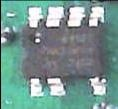ic: (18, 3, 110, 99)
